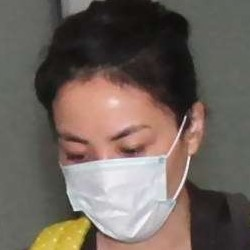mask: (50, 116, 195, 240)
